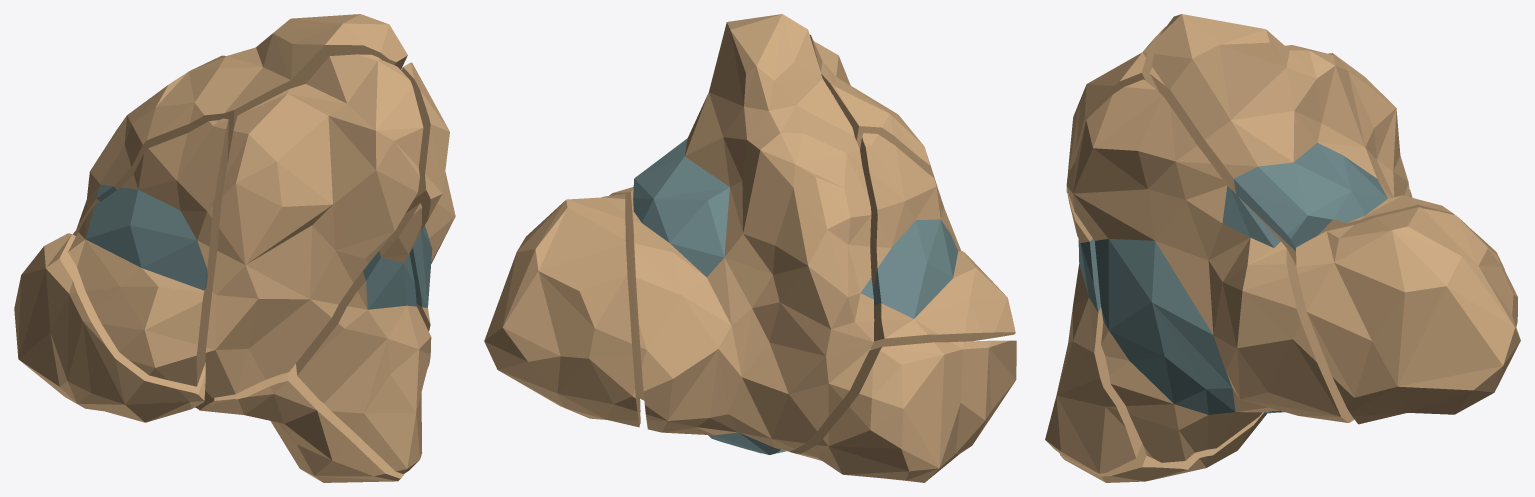
The model's file is SM_LP_MetalNode_1_Pieces.fbx.
The picture shows the model from 3 angles, left to right: view 1: azimuth 30°, elevation 25°; view 2: azimuth 150°, elevation 25°; view 3: azimuth 270°, elevation 25°; orthographic projection. The views are drawn at different scales.
Parts seen in each view (by area): view 1: SM_LP_MetalNode_1_Pieces_3, SM_LP_MetalNode_1_Pieces_2, SM_LP_MetalNode_1_Pieces_6, SM_LP_MetalNode_1_Pieces_5, SM_LP_MetalNode_1_Pieces_1, SM_LP_MetalNode_1_Pieces_4, SM_LP_MetalNode_1_Pieces_7; view 2: SM_LP_MetalNode_1_Pieces_5, SM_LP_MetalNode_1_Pieces_8, SM_LP_MetalNode_1_Pieces_1, SM_LP_MetalNode_1_Pieces_2, SM_LP_MetalNode_1_Pieces_3, SM_LP_MetalNode_1_Pieces_7; view 3: SM_LP_MetalNode_1_Pieces_7, SM_LP_MetalNode_1_Pieces_5, SM_LP_MetalNode_1_Pieces_8, SM_LP_MetalNode_1_Pieces_6, SM_LP_MetalNode_1_Pieces_4, SM_LP_MetalNode_1_Pieces_3.
Part boxes in pixels (x1,y1,x2,y2): SM_LP_MetalNode_1_Pieces_3: [205, 54, 423, 397]; SM_LP_MetalNode_1_Pieces_2: [68, 118, 228, 386]; SM_LP_MetalNode_1_Pieces_6: [296, 203, 431, 473]; SM_LP_MetalNode_1_Pieces_5: [72, 14, 407, 235]; SM_LP_MetalNode_1_Pieces_1: [14, 233, 205, 422]; SM_LP_MetalNode_1_Pieces_4: [195, 364, 404, 482]; SM_LP_MetalNode_1_Pieces_7: [401, 62, 455, 331]; SM_LP_MetalNode_1_Pieces_5: [633, 14, 874, 454]; SM_LP_MetalNode_1_Pieces_8: [484, 194, 640, 427]; SM_LP_MetalNode_1_Pieces_1: [788, 340, 1016, 482]; SM_LP_MetalNode_1_Pieces_2: [860, 133, 1015, 349]; SM_LP_MetalNode_1_Pieces_3: [810, 35, 961, 251]; SM_LP_MetalNode_1_Pieces_7: [609, 187, 644, 400]; SM_LP_MetalNode_1_Pieces_7: [1066, 79, 1354, 462]; SM_LP_MetalNode_1_Pieces_5: [1150, 14, 1505, 271]; SM_LP_MetalNode_1_Pieces_8: [1296, 207, 1520, 424]; SM_LP_MetalNode_1_Pieces_6: [1045, 187, 1142, 473]; SM_LP_MetalNode_1_Pieces_4: [1060, 411, 1284, 482]; SM_LP_MetalNode_1_Pieces_3: [1066, 26, 1165, 192].
Size of the model in its own units: 1.1 by 1.12 by 1.05.
